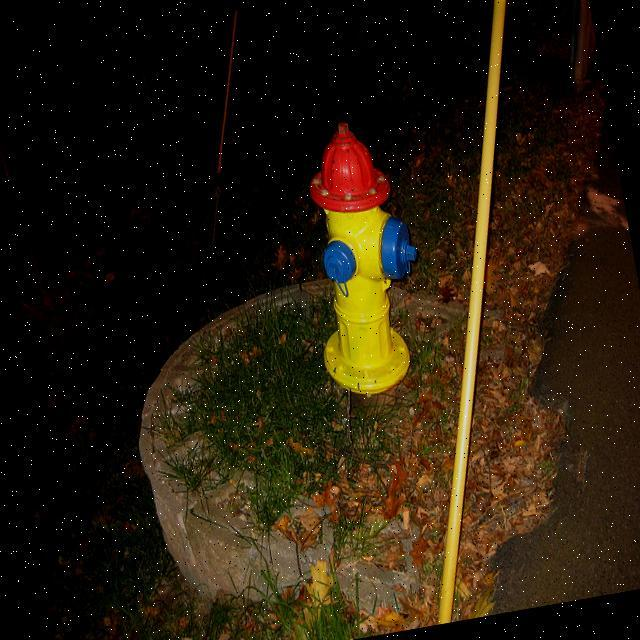fire_hydrant: (282, 112, 441, 410)
